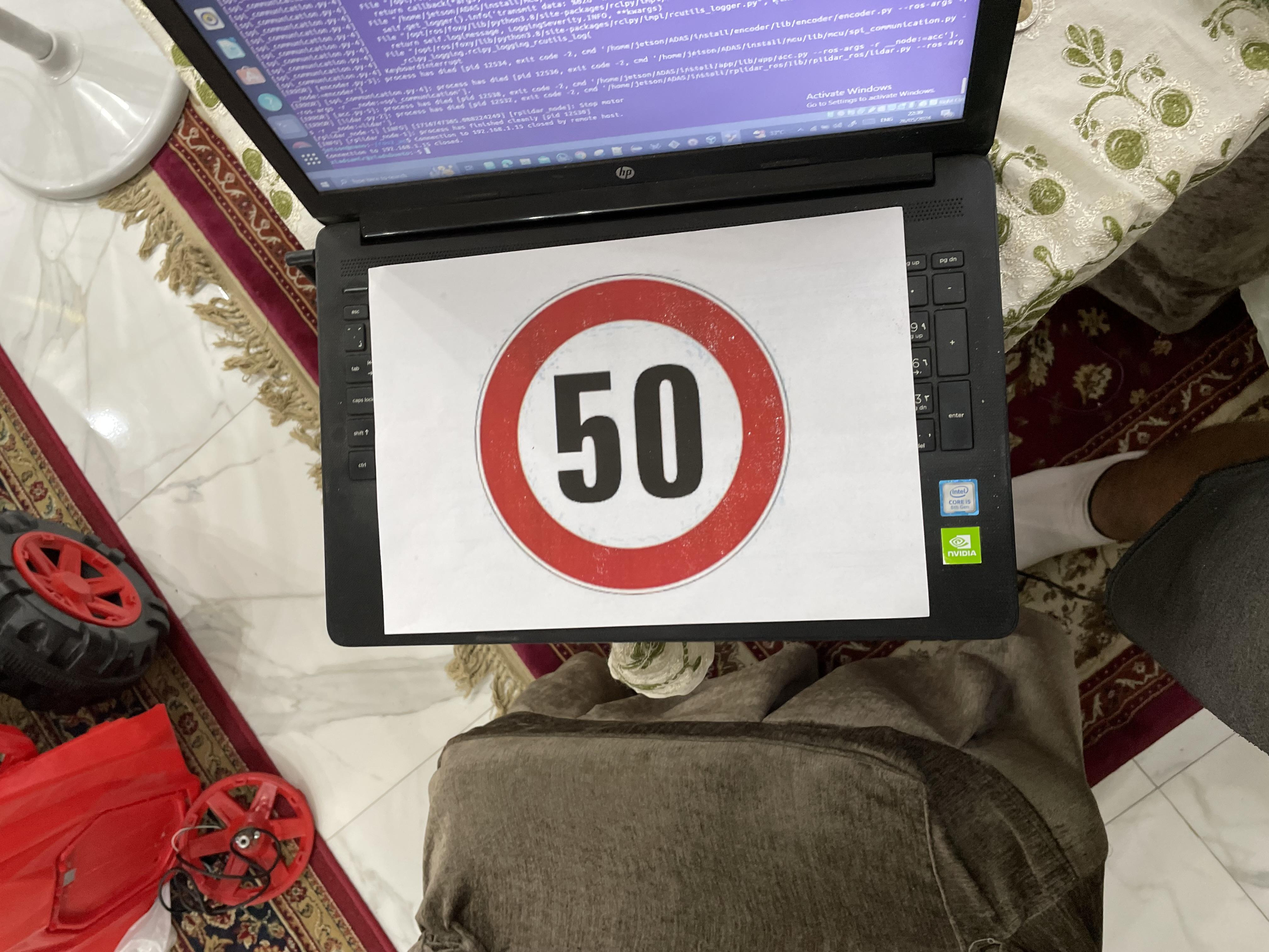50-Speed: (462, 333, 919, 596)
